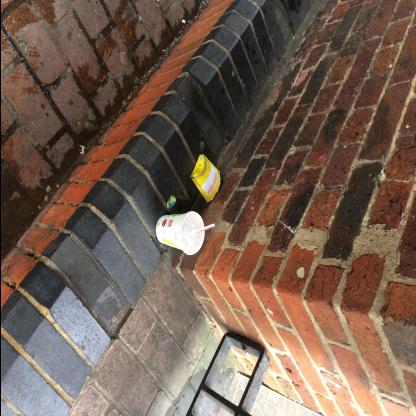karton: (154, 211, 204, 255), (188, 154, 220, 204)
plastik: (192, 223, 214, 235)
